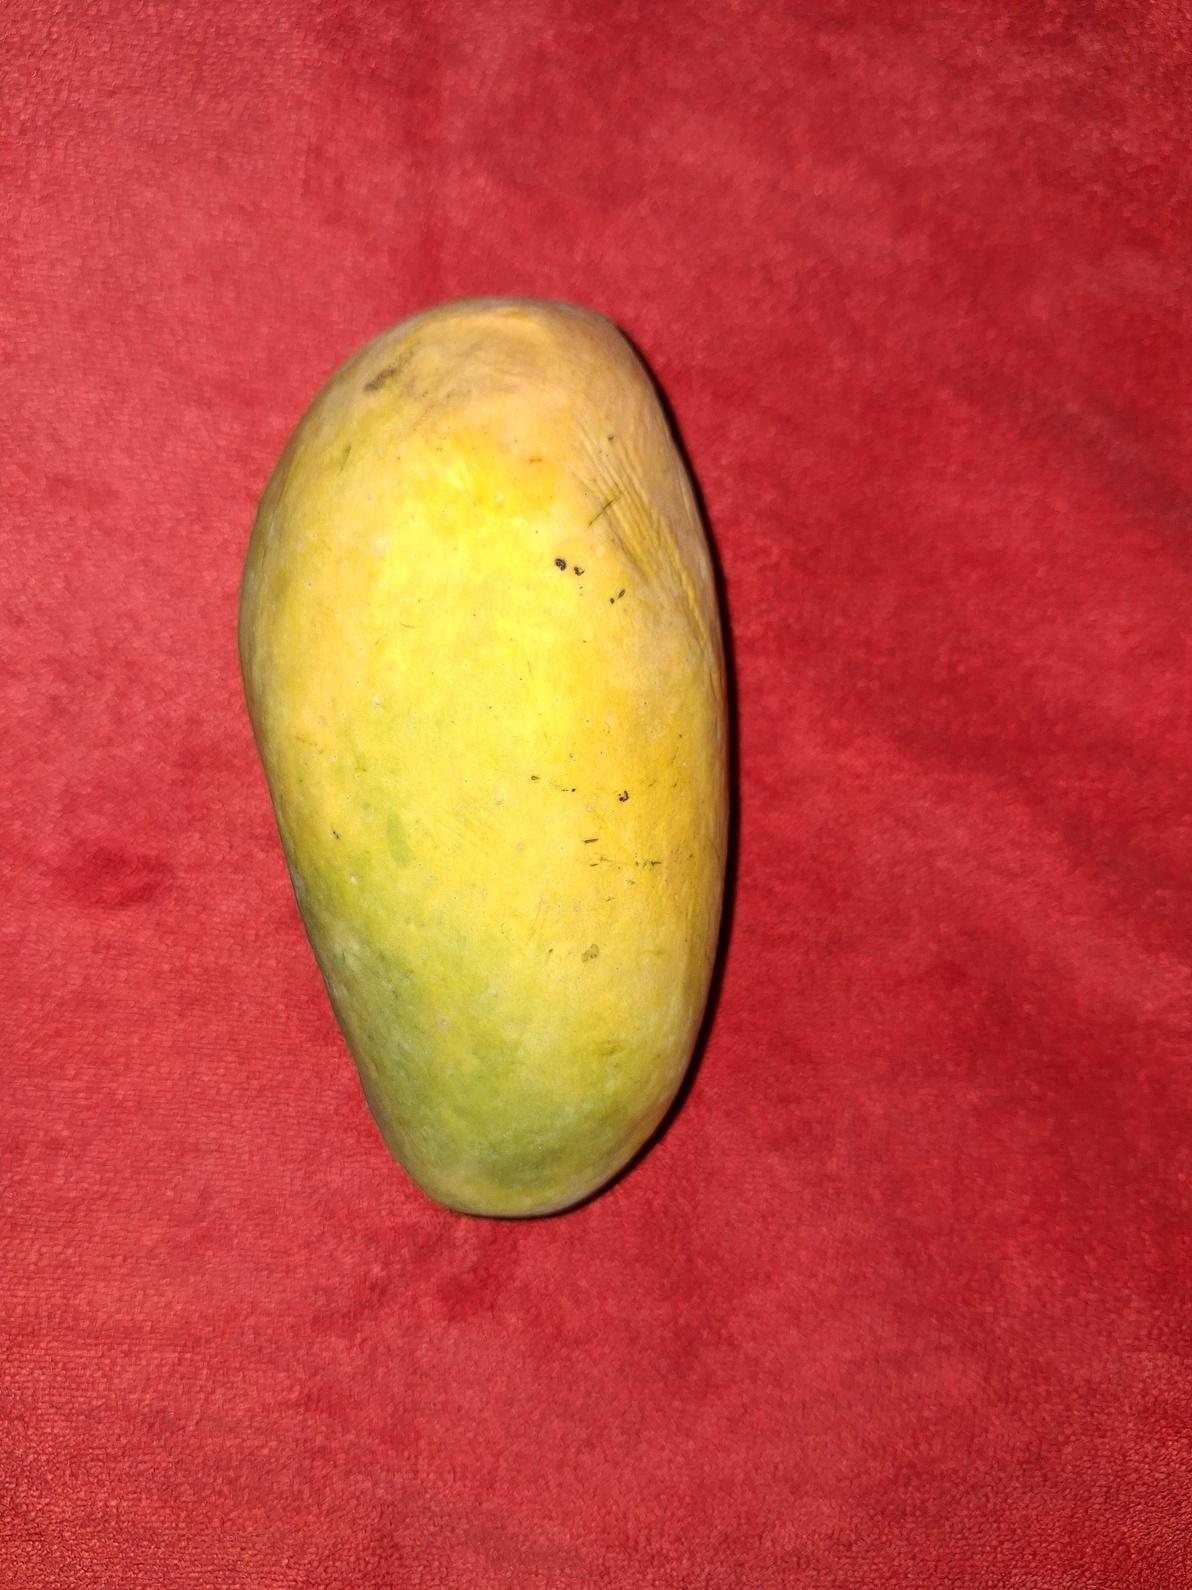mango: (235, 293, 731, 1219)
